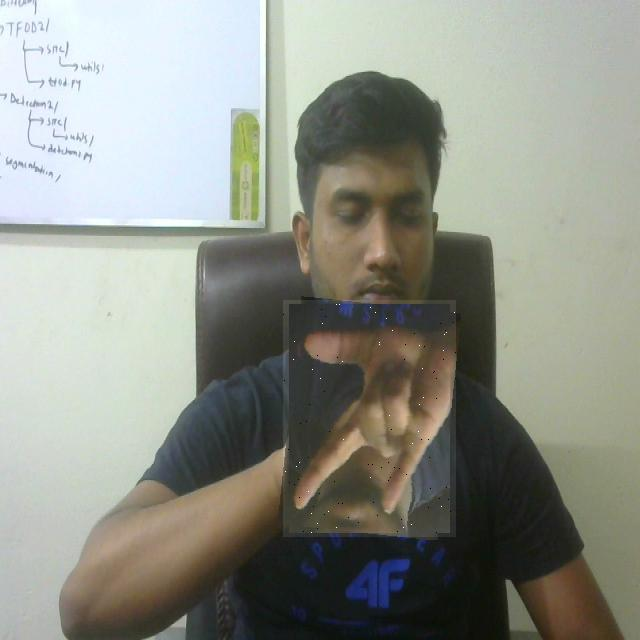IloveYou: (283, 300, 456, 537)
